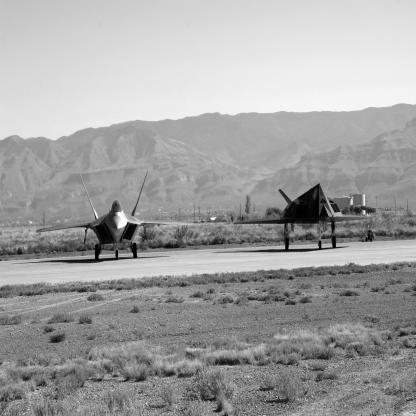F117: (234, 184, 370, 251)
F22: (37, 172, 194, 262)
